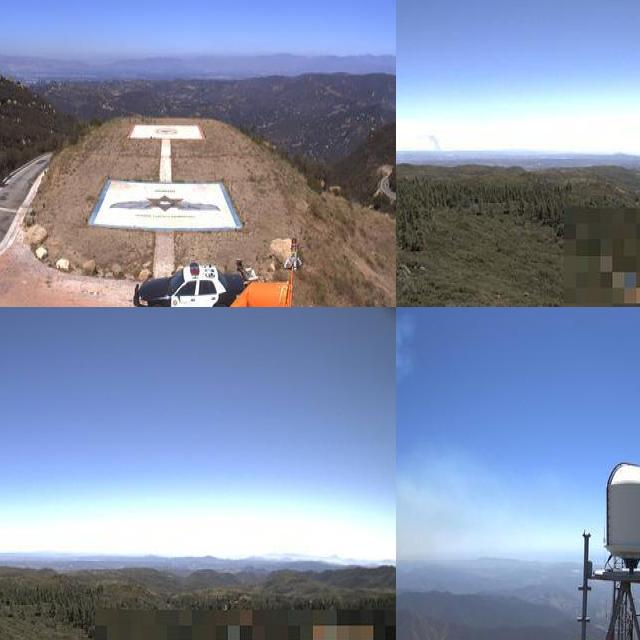smoke: (421, 128, 449, 163)
